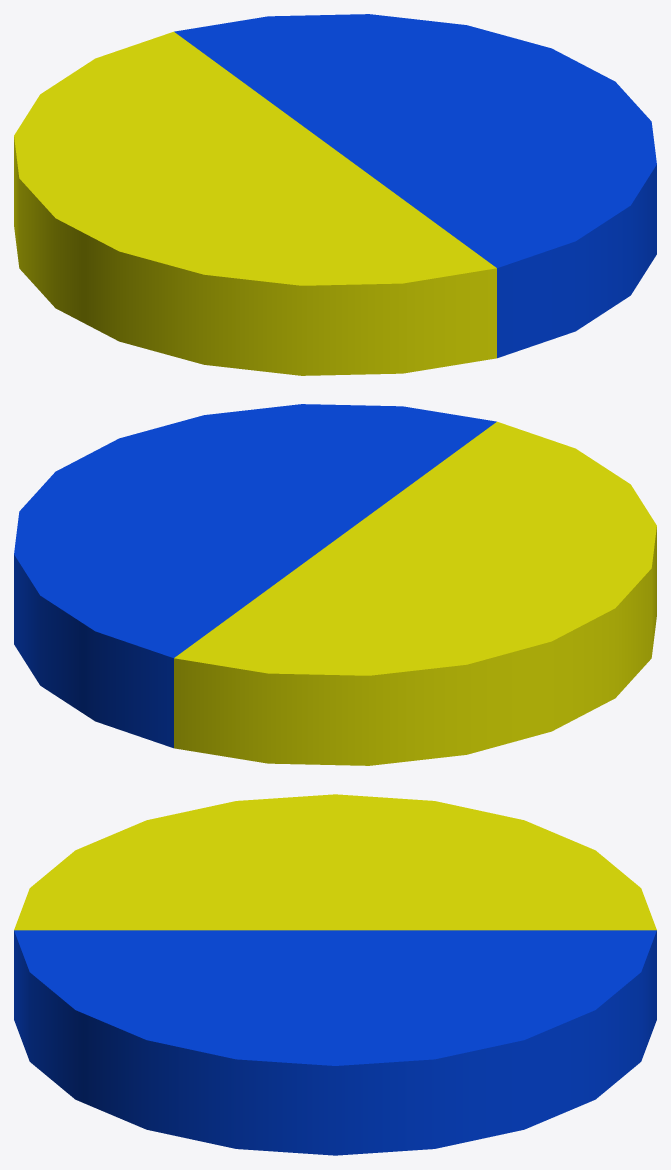
Rendered from 2_renk_sari_mavi.fbx.
3 renders of one model, top to bottom at view 1: azimuth 30°, elevation 25°; view 2: azimuth 150°, elevation 25°; view 3: azimuth 270°, elevation 25°, orthographic.
Parts seen in each view (by area): view 1: pCylinder8; view 2: pCylinder8; view 3: pCylinder8.
Part boxes in pixels (<box>): pCylinder8: <box>14,14,656,375</box>; pCylinder8: <box>14,404,656,765</box>; pCylinder8: <box>14,794,656,1155</box>.
Size of the model in its own units: 6.28 by 0.9651 by 6.28.
